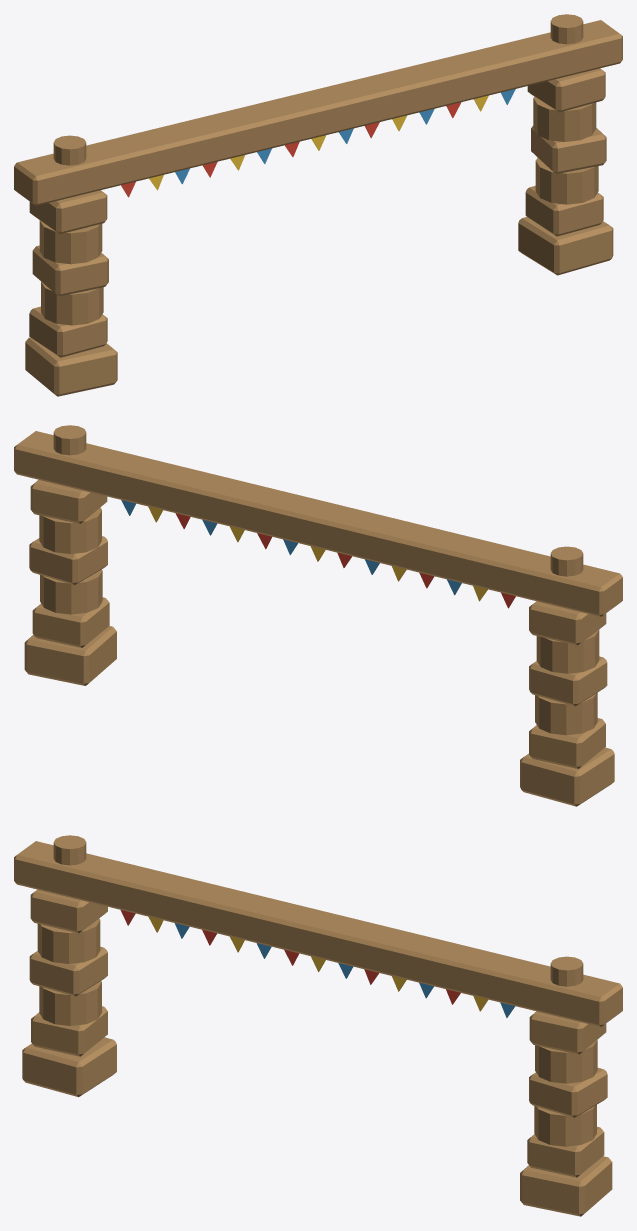
Rendered from start_arch.glb.
3 renders of one model, top to bottom at view 1: azimuth 30°, elevation 25°; view 2: azimuth 150°, elevation 25°; view 3: azimuth 330°, elevation 25°, orthographic.
Parts seen in each view (by area): view 1: start_arch; view 2: start_arch; view 3: start_arch.
Boxes of the visible parts, x1,y1,x2,y2 form: start_arch: (14,14,622,396); start_arch: (14,425,622,806); start_arch: (14,835,622,1216).
Bounding box in the file's own units: 22.8 × 8.7 × 2.61.
